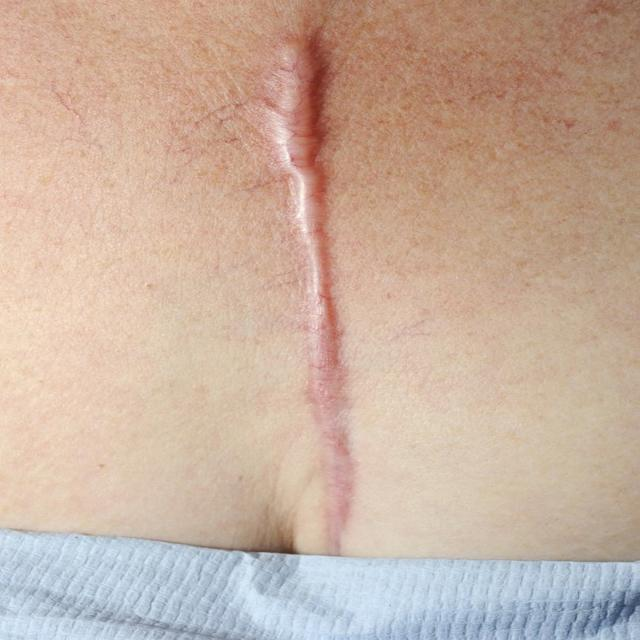wound: (278, 12, 359, 556)
